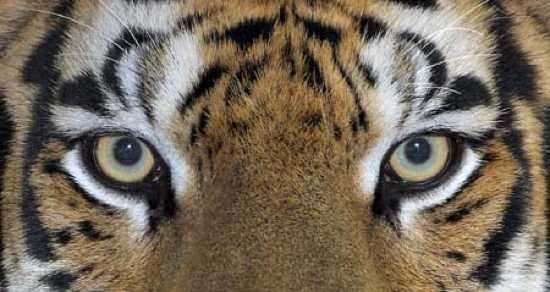Tigrew: (14, 6, 513, 268)
